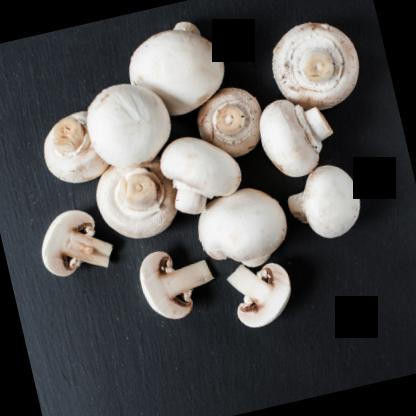mushroom: (116, 13, 238, 126), (264, 10, 368, 115), (192, 181, 295, 275), (83, 76, 181, 174), (154, 127, 249, 221), (252, 87, 342, 181), (92, 152, 185, 242), (133, 240, 219, 324), (284, 158, 366, 245), (33, 202, 117, 284), (190, 80, 271, 164), (38, 107, 113, 189), (223, 253, 300, 332)
